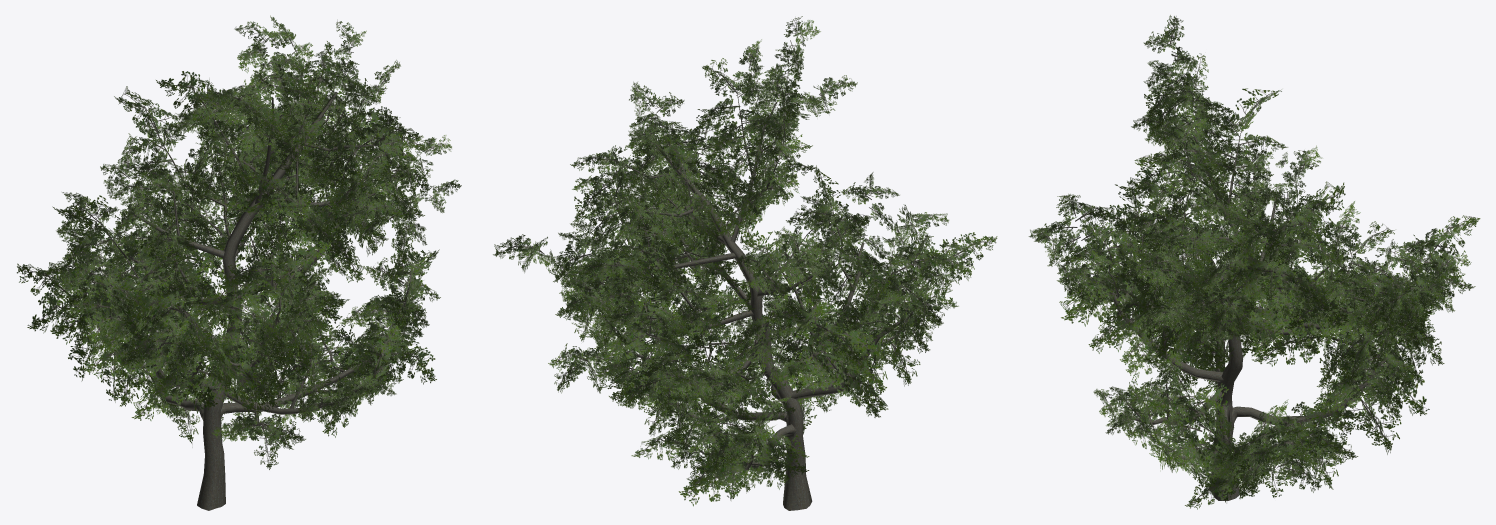
File: oak1.glb
3 views of the same model, side by side, from view 1: azimuth 30°, elevation 25°; view 2: azimuth 150°, elevation 25°; view 3: azimuth 270°, elevation 25° (orthographic). The views are drawn at different scales.
Parts seen in each view (by area): view 1: leaves, bark; view 2: leaves, bark; view 3: leaves, bark.
Boxes of the visible parts, x1,y1,x2,y2 form: leaves: (16,15,461,469); bark: (78,82,388,510); leaves: (493,16,997,506); bark: (609,94,915,510); leaves: (1028,15,1480,509); bark: (1081,113,1429,500).
Size of the model in its own units: 23.33 by 26.48 by 22.41.
2 materials, 2 textured.
